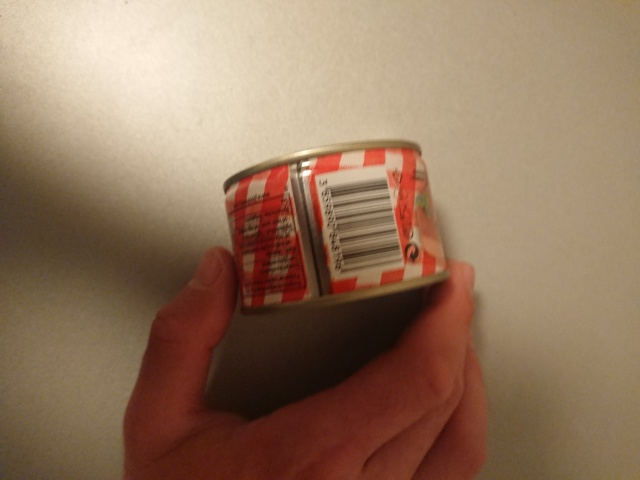Podravka Luncheon Meat 150g: (219, 136, 455, 319)
